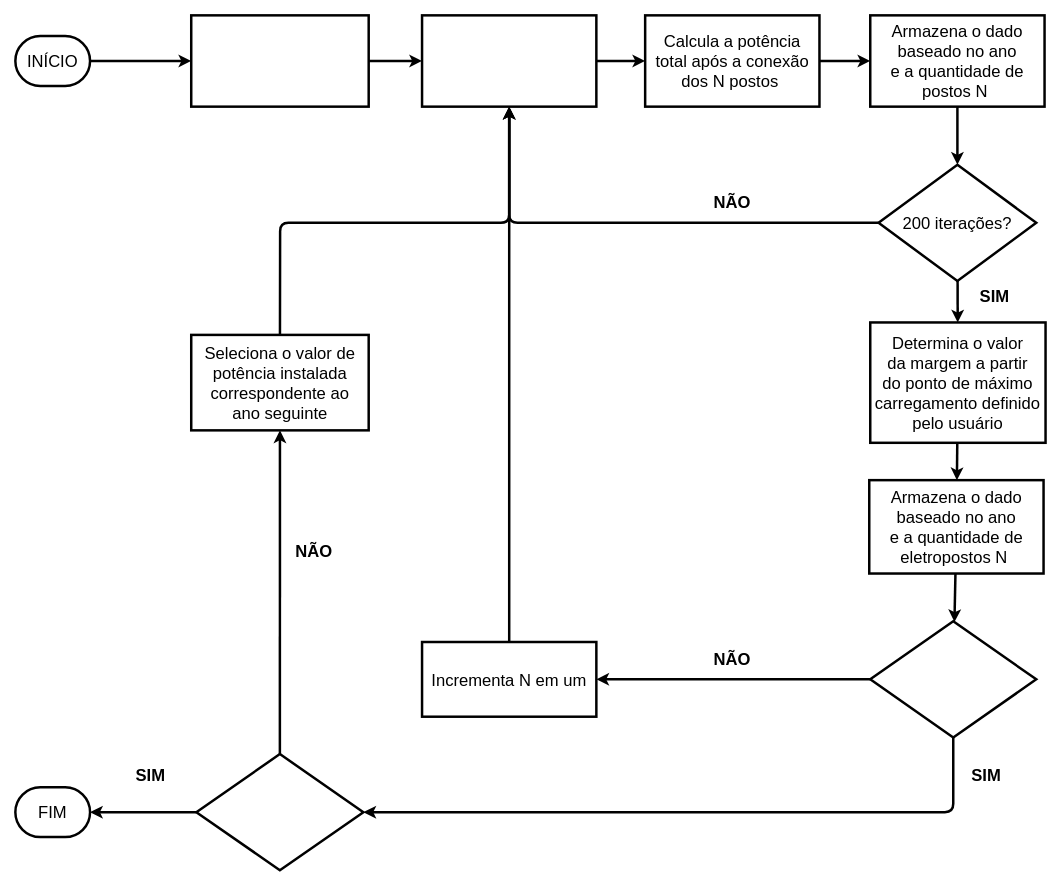
Some shapes in this 1062 by 886 pixel diagram are drawn without their labels. The box of each missing label's shape, as (x1, y1, x2, y2) in pixels:
Calcula o valor de potência dos N postos que serão conectados em cada barra: (420, 14, 597, 107)
N <= 10?: (869, 620, 1037, 738)
Seleciona a potência instalada do primeiro ano de análise: (190, 14, 370, 107)
Todos os anos analisados?: (195, 752, 364, 871)
